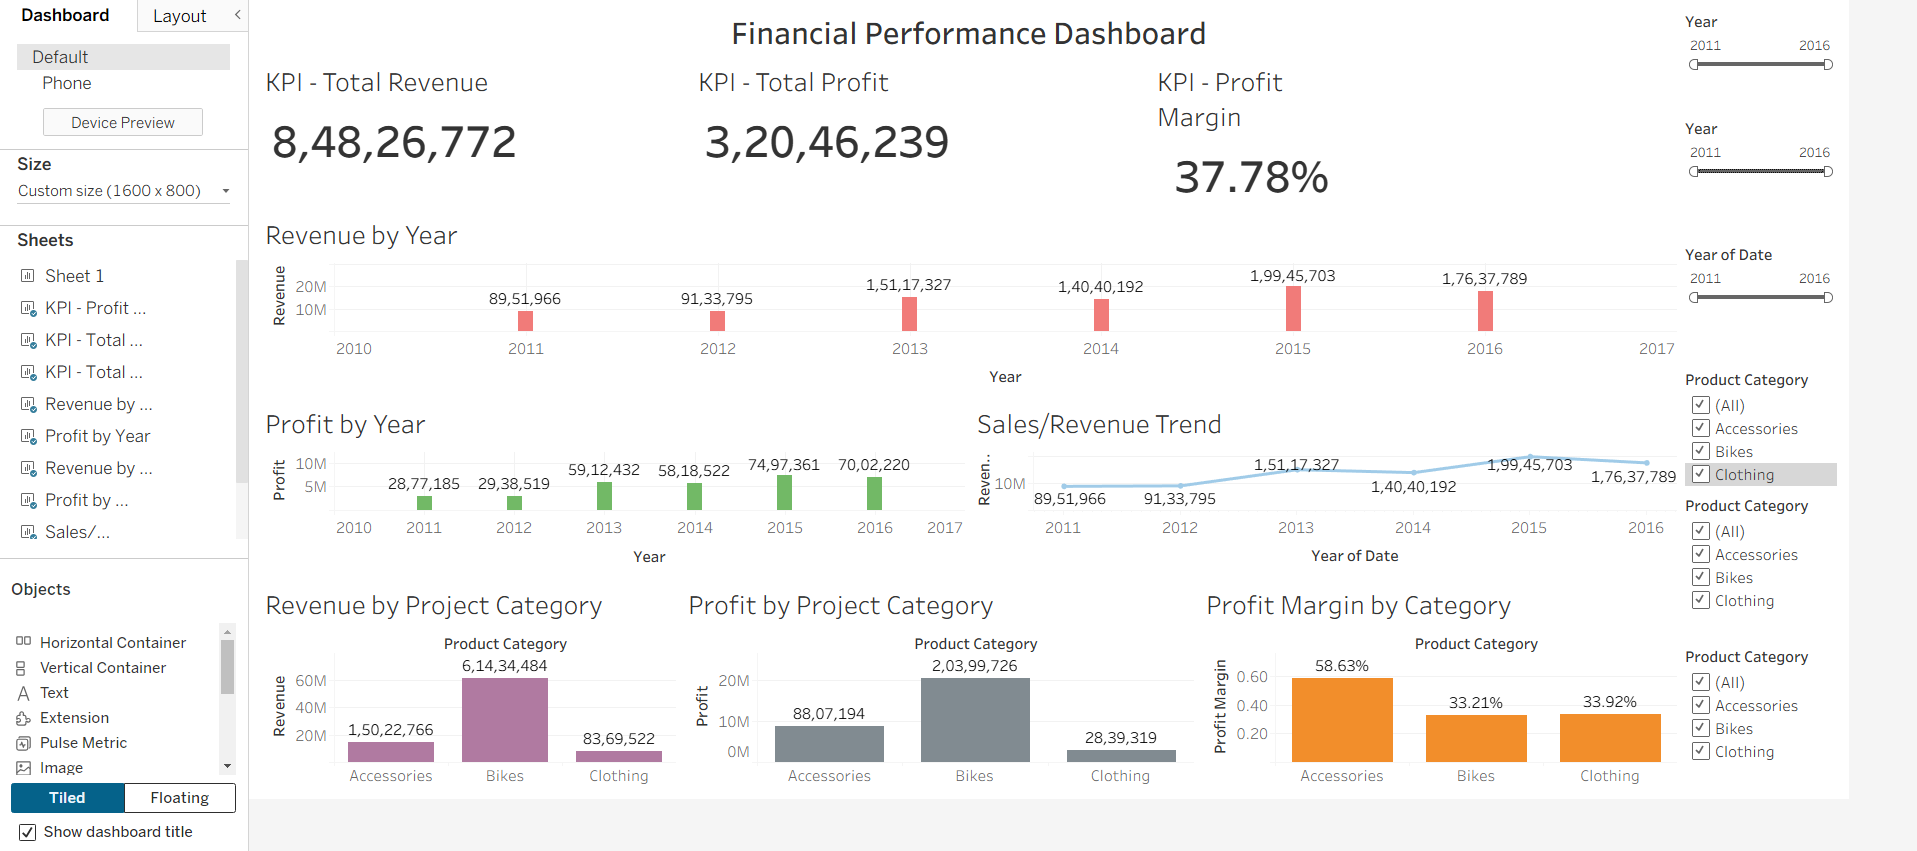

What the dashboard file says about the page in this screenshot:
{"tool":"tableau","page":{"name":"Dashboard 2","canvas":[1600,800],"ordinal":1},"visuals":[{"type":"title","box":[8,8,1424,49]},{"type":"filter","title":"Revenue by Year","param":"[federated.137924b0mk0v2u16otrtc132clof].[none:Year:qk]","box":[1432,8,160,107]},{"type":"worksheet","title":"KPI - Total Revenue","mark":"Automatic","box":[8,57,433.3,153.2]},{"type":"worksheet","title":"KPI - Total Profit","mark":"Automatic","box":[441.3,57,458.5,153.2]},{"type":"worksheet","title":"KPI - Profit Margin","mark":"Automatic","box":[899.8,57,532.2,153.2]},{"type":"filter","title":"Profit by Year","param":"[federated.137924b0mk0v2u16otrtc132clof].[none:Year:qk]","box":[1432,115,160,125.7]},{"type":"worksheet","title":"Revenue by Year","mark":"Bar","rows":["Revenue"],"cols":["Year"],"box":[8,210.2,1424,189.3]},{"type":"filter","title":"Sales/Revenue Trend","param":"[federated.137924b0mk0v2u16otrtc132clof].[tyr:Date:qk]","box":[1432,240.7,160,125.7]},{"type":"filter","title":"Revenue by Project Category","param":"[federated.137924b0mk0v2u16otrtc132clof].[none:Product_Category:nk]","box":[1432,366.3,160,125.7]},{"type":"worksheet","title":"Profit by Year","mark":"Bar","rows":["Profit"],"cols":["Year"],"box":[8,399.4,712,180.2]},{"type":"worksheet","title":"Sales/Revenue Trend","mark":"Line","rows":["Revenue"],"cols":["Date"],"box":[720,399.4,712,180.2]},{"type":"filter","title":"Profit by Project Category","param":"[federated.137924b0mk0v2u16otrtc132clof].[none:Product_Category:nk]","box":[1432,492,160,151]},{"type":"worksheet","title":"Revenue by Project Category","mark":"Bar","rows":["Revenue"],"cols":["Product_Category"],"box":[8,579.7,423.3,212.3]},{"type":"worksheet","title":"Profit by Project Category","mark":"Bar","rows":["Profit"],"cols":["Product_Category"],"box":[431.3,579.7,517.9,212.3]},{"type":"worksheet","title":"Profit Margin by Category","mark":"Bar","rows":["Calculation_0399981814611972"],"cols":["Product_Category"],"box":[949.2,579.7,482.8,212.3]},{"type":"filter","title":"Profit Margin by Category","param":"[federated.137924b0mk0v2u16otrtc132clof].[none:Product_Category:nk]","box":[1432,643,160,149]}]}

Visuals, with their boxes on the page's 1600x800 design canvas (x1, y1, x2, y2). These are canvas units, not pixel positions in the 1917x851 screenshot, which may show the page scaled, cropped or inside an application window:
title: left=8, top=8, right=1432, bottom=57
"Revenue by Year" filter: left=1432, top=8, right=1592, bottom=115
"KPI - Total Revenue" worksheet: left=8, top=57, right=441, bottom=210
"KPI - Total Profit" worksheet: left=441, top=57, right=900, bottom=210
"KPI - Profit Margin" worksheet: left=900, top=57, right=1432, bottom=210
"Profit by Year" filter: left=1432, top=115, right=1592, bottom=241
"Revenue by Year" worksheet (Bar marks): left=8, top=210, right=1432, bottom=400
"Sales/Revenue Trend" filter: left=1432, top=241, right=1592, bottom=366
"Revenue by Project Category" filter: left=1432, top=366, right=1592, bottom=492
"Profit by Year" worksheet (Bar marks): left=8, top=399, right=720, bottom=580
"Sales/Revenue Trend" worksheet (Line marks): left=720, top=399, right=1432, bottom=580
"Profit by Project Category" filter: left=1432, top=492, right=1592, bottom=643
"Revenue by Project Category" worksheet (Bar marks): left=8, top=580, right=431, bottom=792
"Profit by Project Category" worksheet (Bar marks): left=431, top=580, right=949, bottom=792
"Profit Margin by Category" worksheet (Bar marks): left=949, top=580, right=1432, bottom=792
"Profit Margin by Category" filter: left=1432, top=643, right=1592, bottom=792
